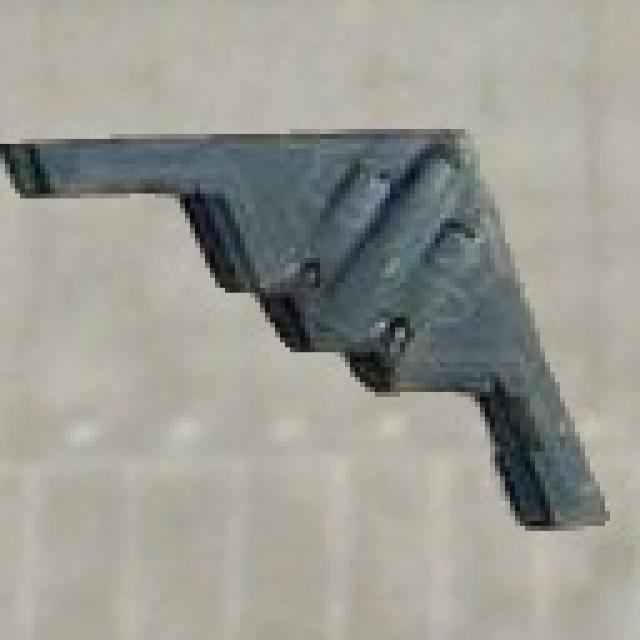B-2_TopDown: (0, 119, 610, 531)
